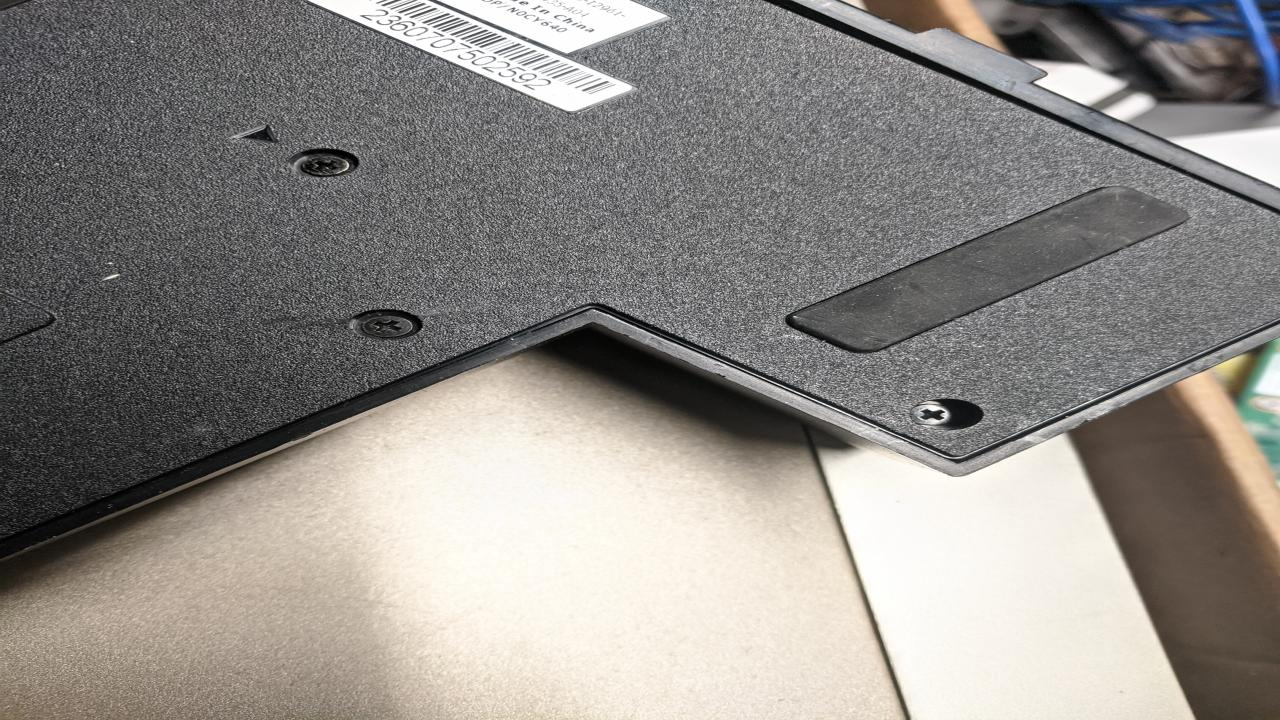CRS: (292, 151, 354, 178), (359, 313, 414, 337), (905, 403, 955, 427)
